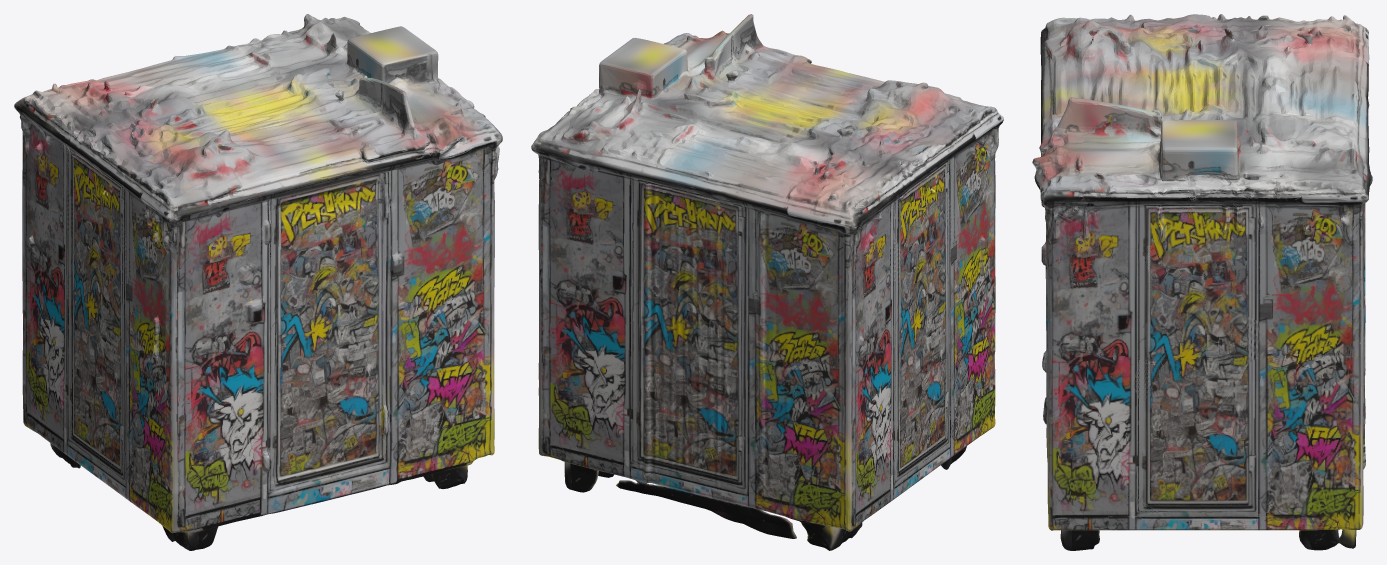
The model's file is kit_utility_box.glb.
The picture shows the model from 3 angles, left to right: view 1: azimuth 30°, elevation 25°; view 2: azimuth 150°, elevation 25°; view 3: azimuth 270°, elevation 25°; orthographic projection. The views are drawn at different scales.
Parts seen in each view (by area): view 1: kit_utility_box; view 2: kit_utility_box; view 3: kit_utility_box.
Part boxes in pixels (x1=…): kit_utility_box: x1=14, y1=14, x2=502, y2=550; kit_utility_box: x1=531, y1=14, x2=1003, y2=550; kit_utility_box: x1=1032, y1=14, x2=1372, y2=550.
Bounding box in the file's own units: 1.22 × 1.4 × 1.01.
1 material, 1 textured.
